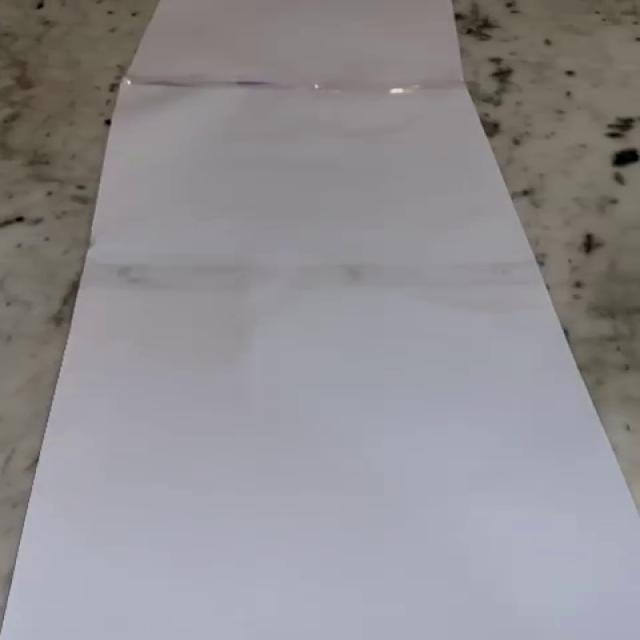road: (2, 0, 637, 640)
